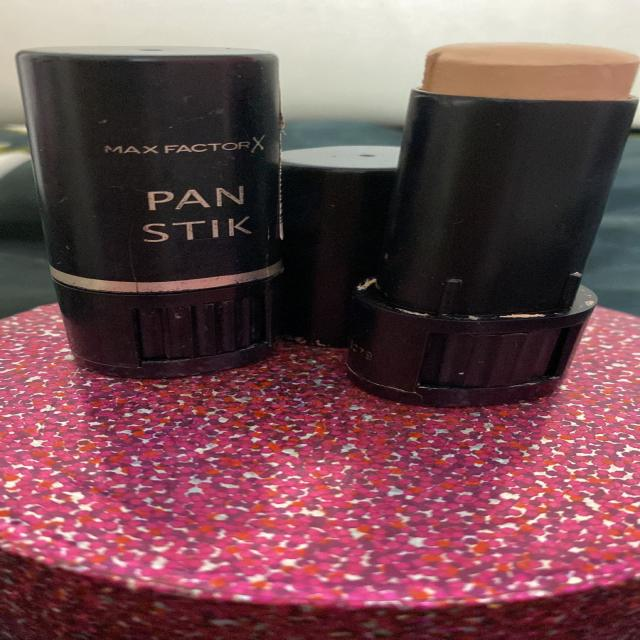concealer: (335, 26, 640, 418)
foundation: (0, 45, 297, 396)
